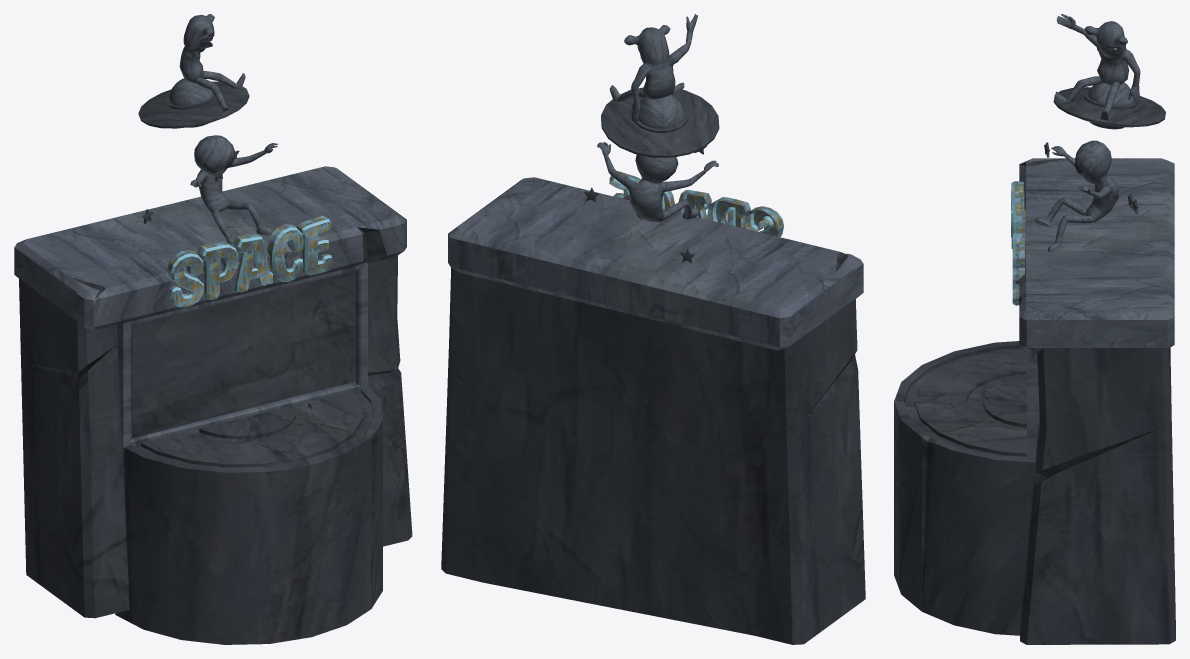
The model's file is pm-stand-space-01.glb.
The picture shows the model from 3 angles, left to right: view 1: azimuth 30°, elevation 25°; view 2: azimuth 150°, elevation 25°; view 3: azimuth 270°, elevation 25°; orthographic projection. The views are drawn at different scales.
Visible parts, largest first — view 1: StandSpace01; view 2: StandSpace01; view 3: StandSpace01.
Part boxes in pixels (left/top/right/bottom): StandSpace01: left=14, top=14, right=412, bottom=644; StandSpace01: left=441, top=14, right=865, bottom=644; StandSpace01: left=894, top=14, right=1175, bottom=644.
Size of what is drawn, in the model's own units: 11.13 by 17.57 by 8.14.
1 material, 1 textured.
